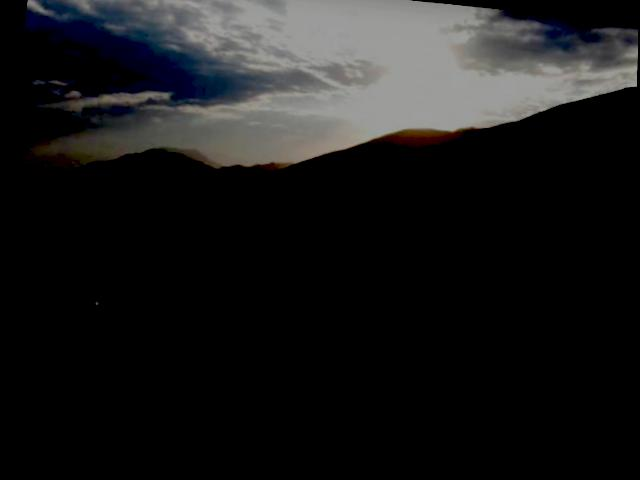iha: (14, 279, 149, 337)
